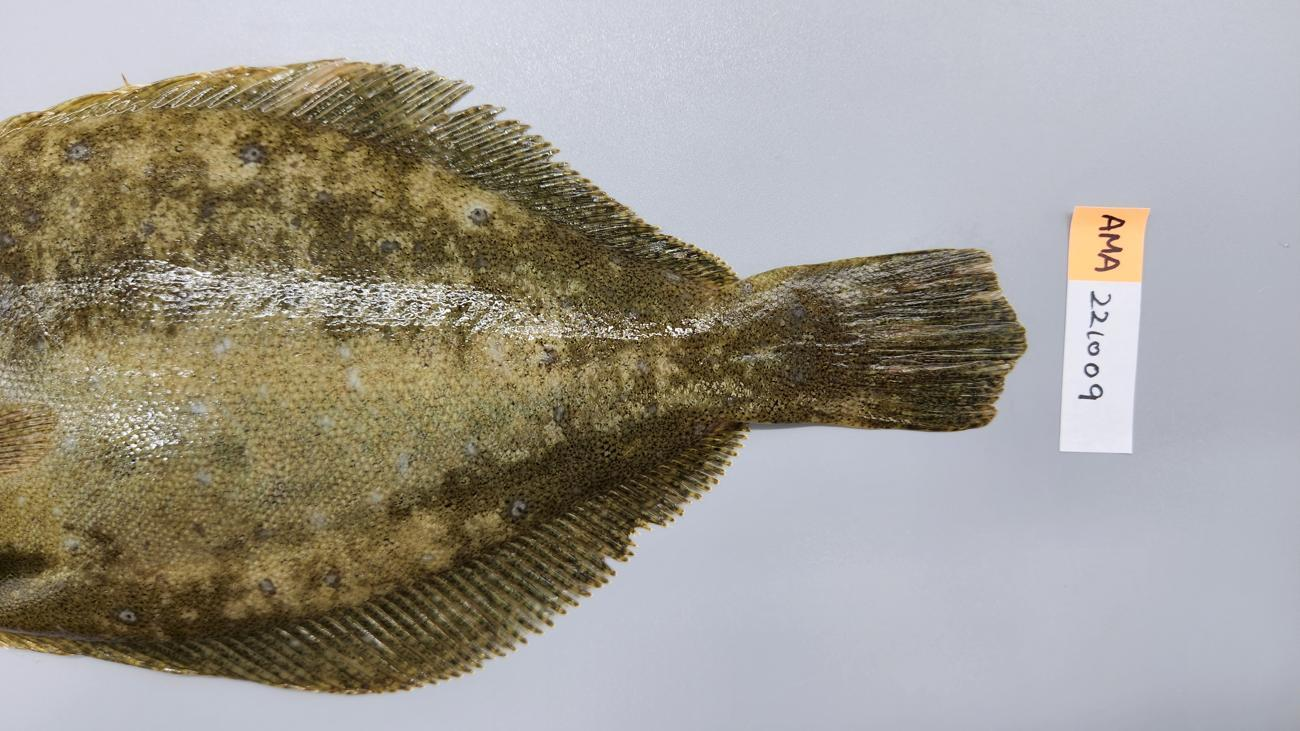MAFCH: (877, 249, 992, 391)
